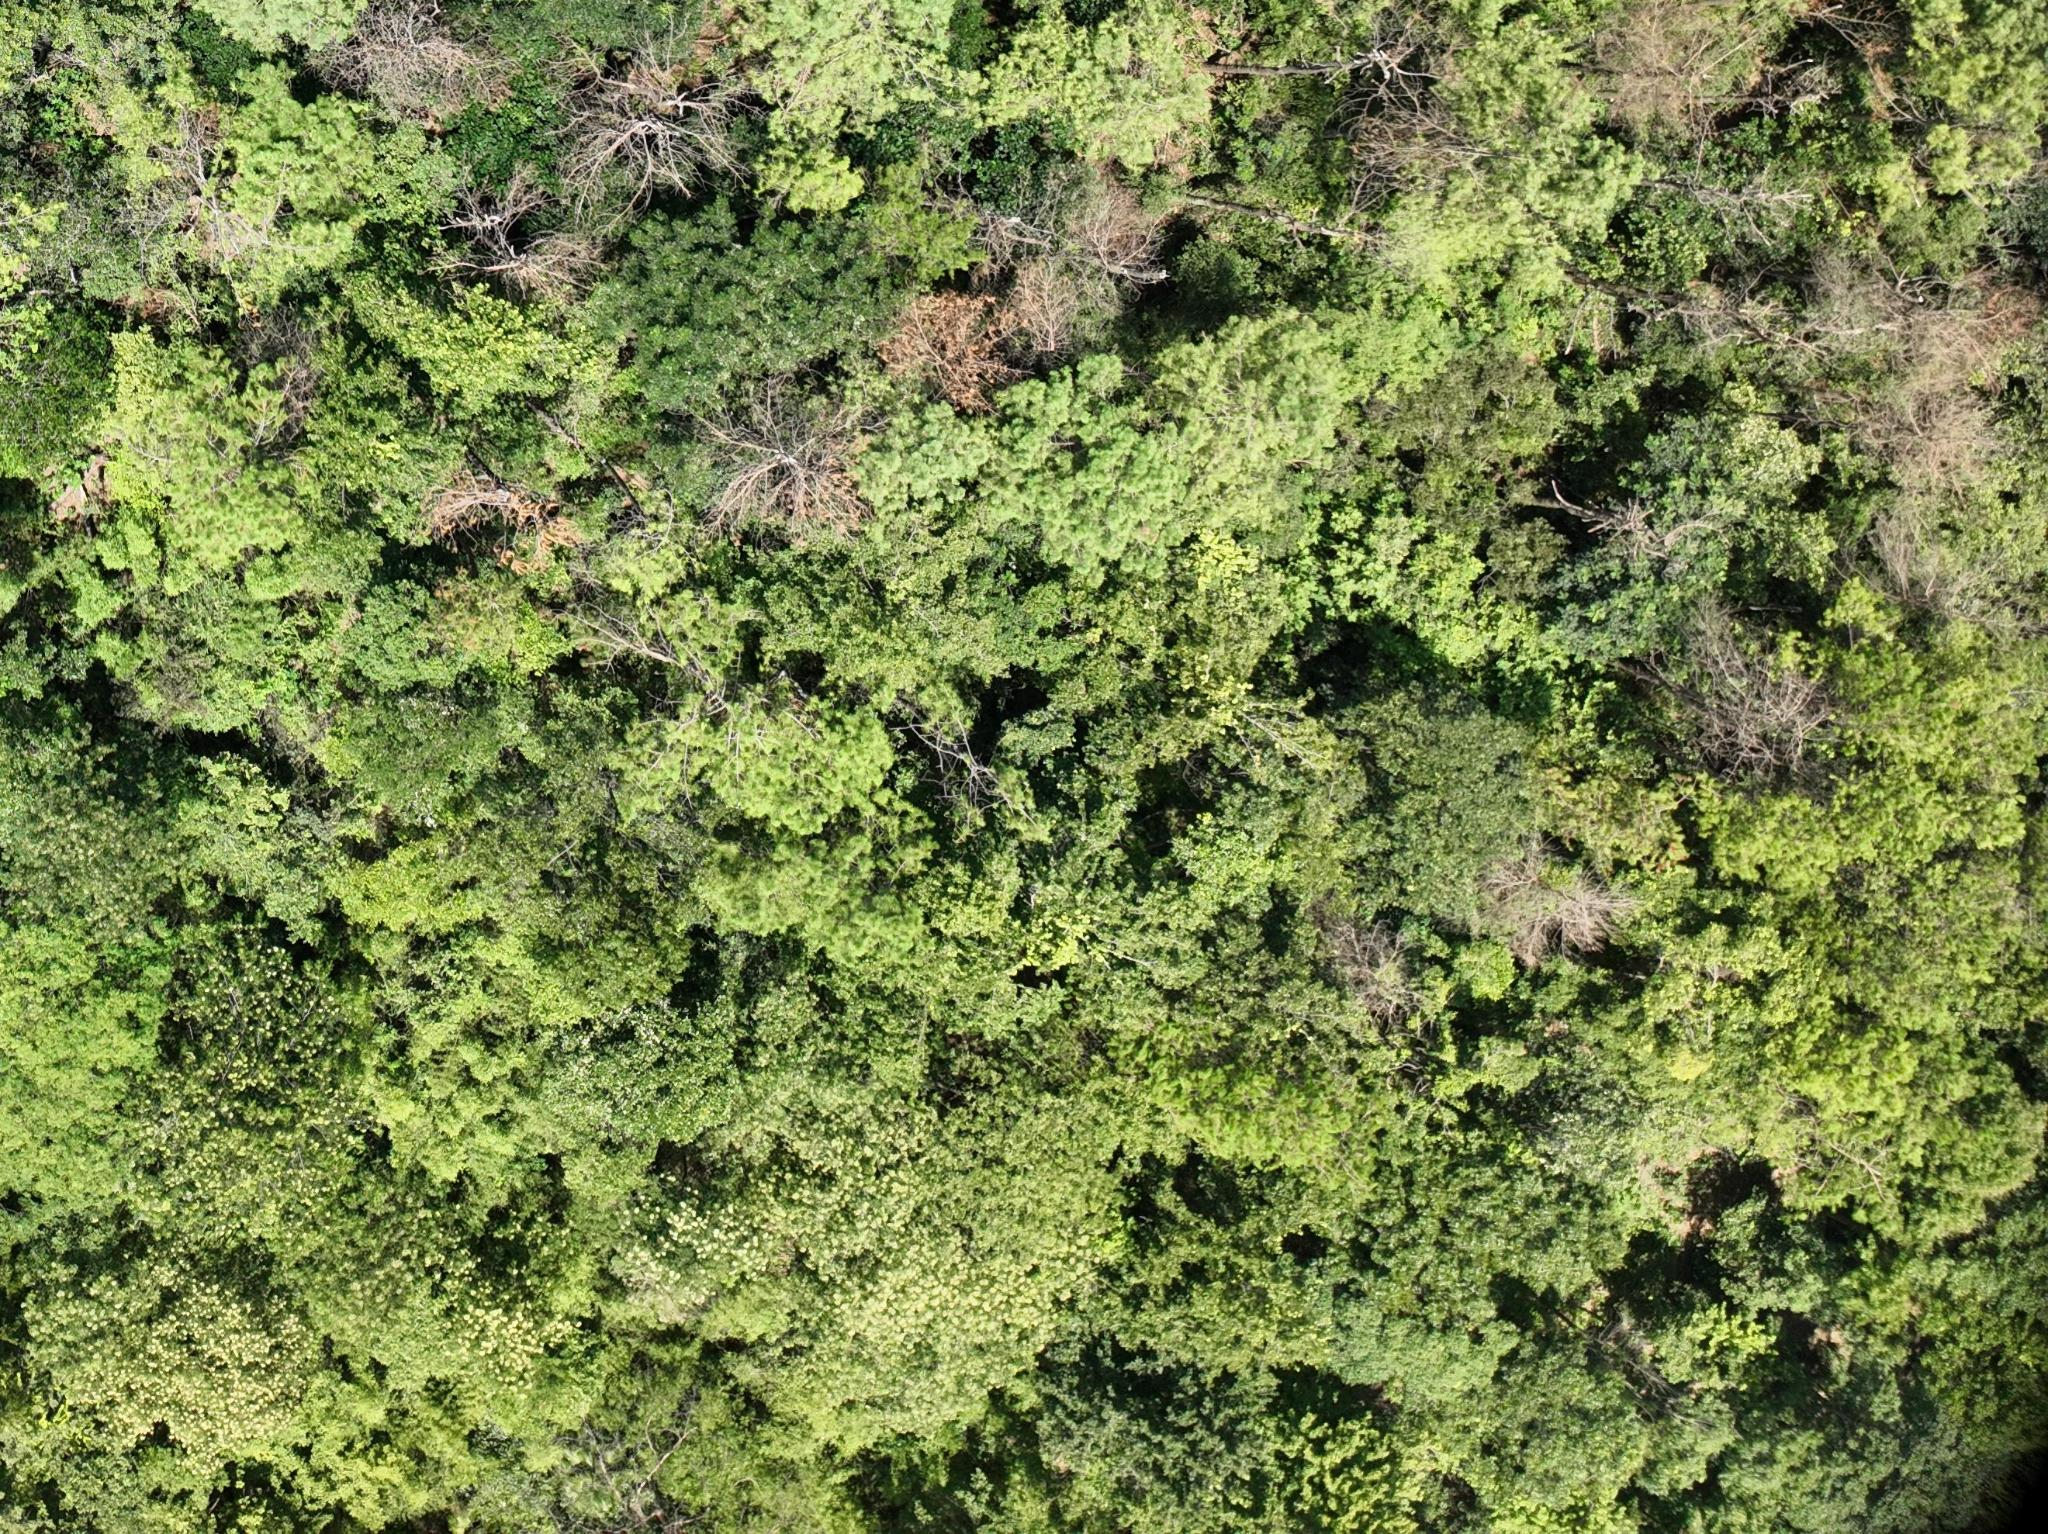dead: (1842, 311, 2001, 517), (558, 52, 749, 198), (707, 398, 833, 535), (330, 3, 475, 114), (1695, 649, 1826, 772), (1490, 864, 1632, 964), (1328, 925, 1399, 1020)
heavy: (425, 471, 570, 583), (880, 293, 996, 400)
